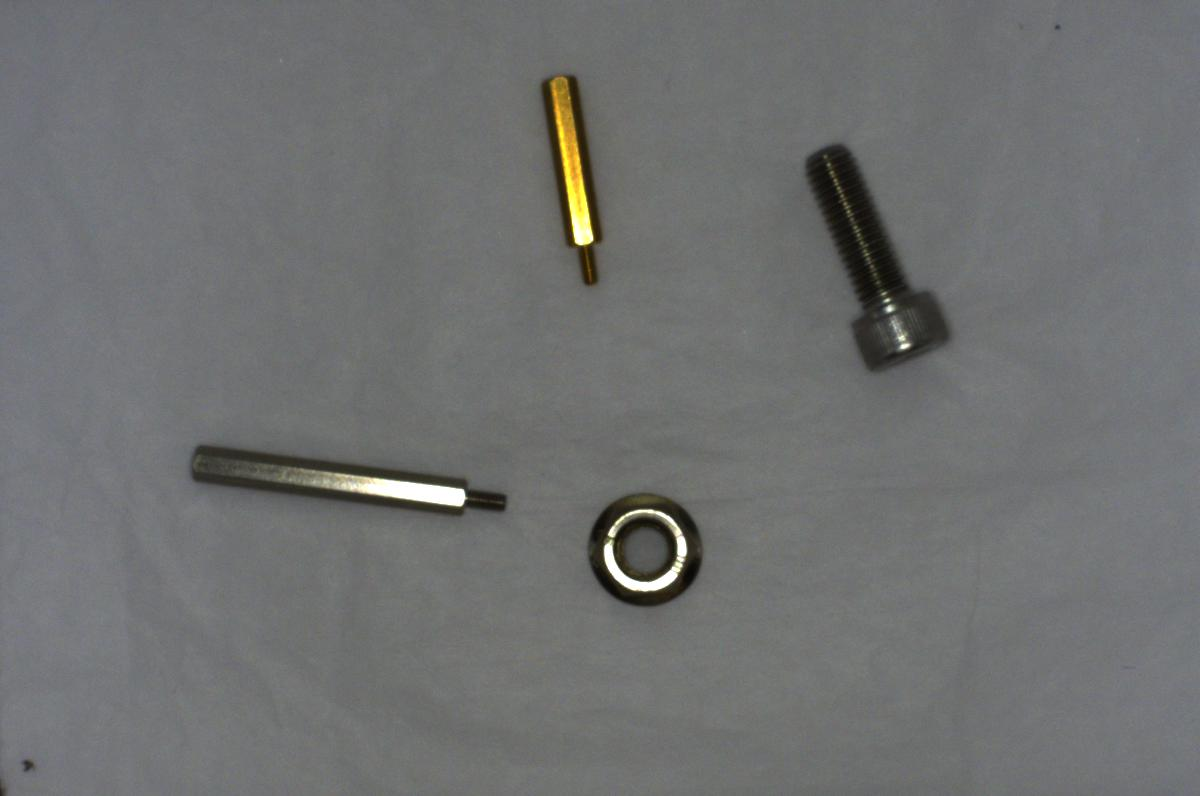Flange nut: (573, 486, 724, 612)
Hexagon pillar: (535, 68, 615, 294)
Hexagon screw: (794, 128, 958, 373)
Hexagonal steel column: (178, 436, 512, 525)
